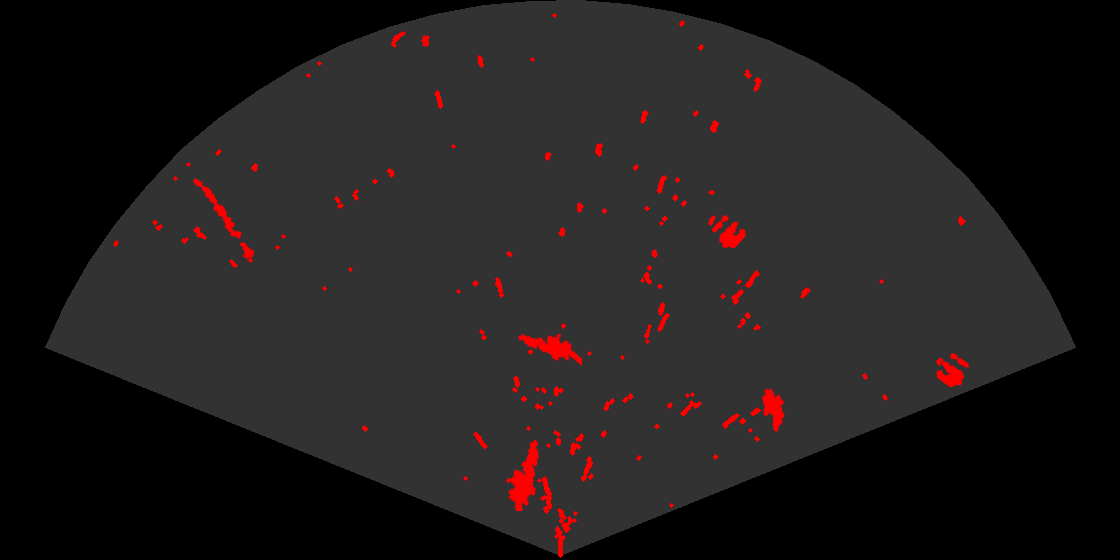AUV: (760, 386, 786, 434)
ball: (710, 214, 748, 250), (935, 352, 971, 389)
chain: (192, 177, 256, 260)
frogman: (504, 438, 540, 511), (516, 332, 582, 367)
